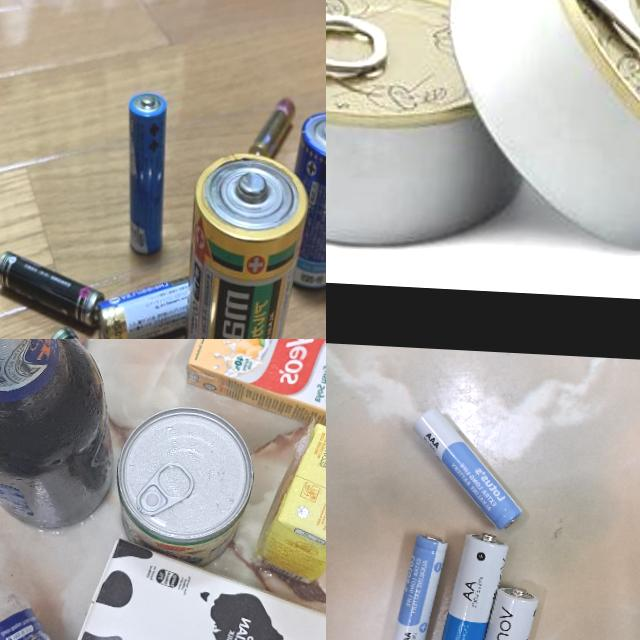aba de lata: (554, 0, 640, 70), (326, 5, 390, 81), (138, 454, 195, 518)
bateria: (174, 149, 311, 339), (411, 406, 528, 534), (276, 108, 326, 299), (116, 88, 171, 260), (0, 251, 109, 330), (432, 531, 509, 640), (93, 265, 202, 339), (389, 532, 450, 640), (462, 583, 538, 640), (248, 88, 294, 169)
caixinha: (60, 537, 326, 640), (178, 339, 326, 431), (261, 419, 326, 585)
garrafa de vidro: (0, 339, 122, 546)
garrafa plástica: (0, 474, 113, 640)
lata: (436, 0, 640, 262), (326, 0, 532, 256), (113, 402, 261, 572)
